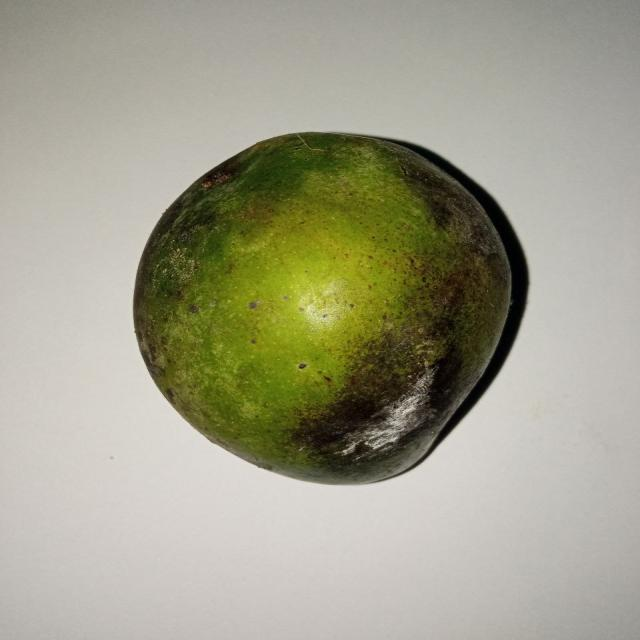rotten_mango: (129, 131, 514, 482)
